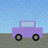vehicle: (12, 21, 43, 41)
